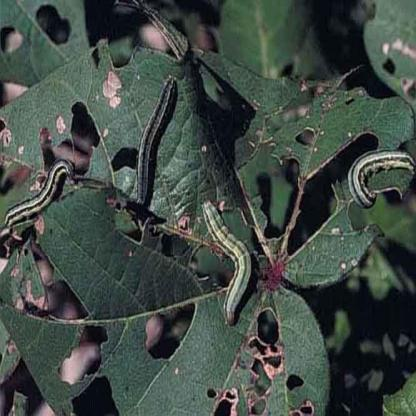armyworm: (196, 194, 252, 333), (3, 156, 78, 253), (136, 71, 179, 217), (346, 141, 416, 211)
